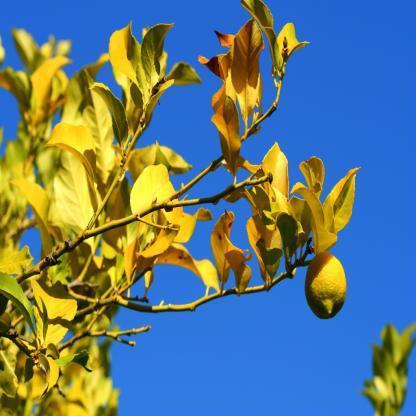lemon: (305, 252, 346, 319)
